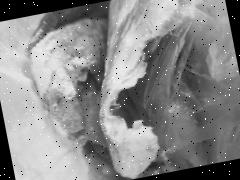organic: (30, 3, 180, 173)
